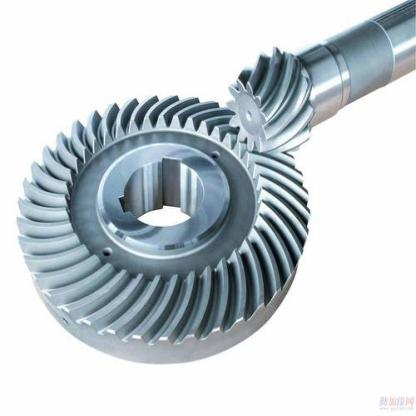FOD: (17, 91, 318, 363), (225, 52, 318, 156)
